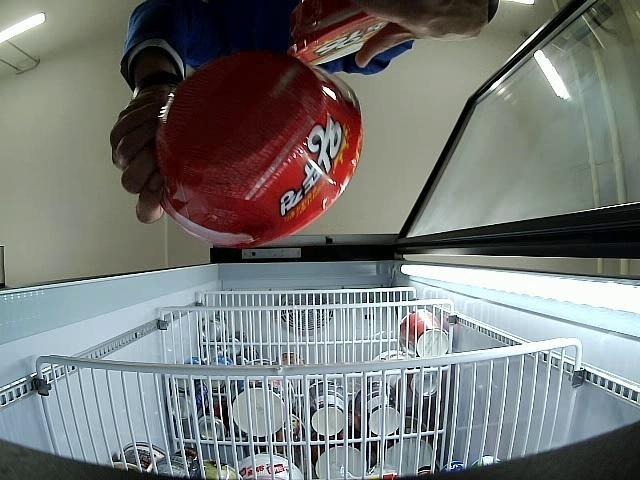10_wangTtukkeong: (156, 50, 364, 248), (292, 0, 389, 63)
